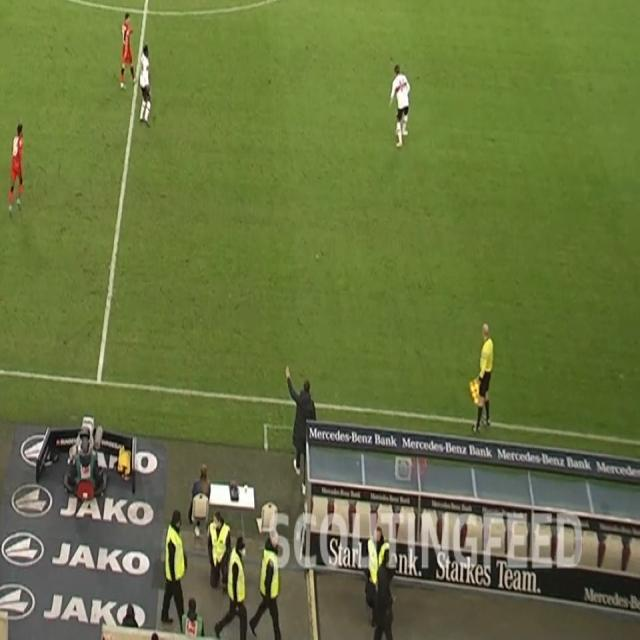ball: (394, 123, 404, 138)
